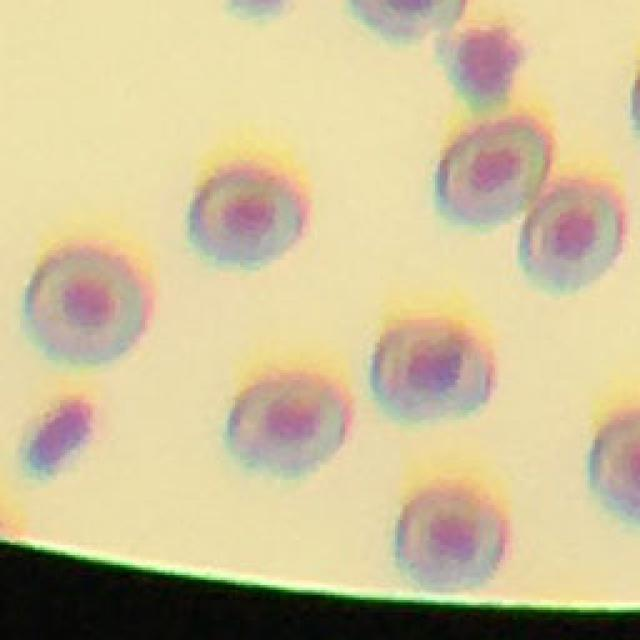RBC: (26, 241, 149, 363), (436, 116, 553, 225), (369, 317, 494, 419), (226, 374, 349, 477), (393, 482, 504, 594), (522, 177, 624, 290), (190, 167, 304, 261), (593, 416, 640, 527), (352, 0, 472, 36)
WBC: (452, 29, 528, 100), (24, 400, 90, 474)
